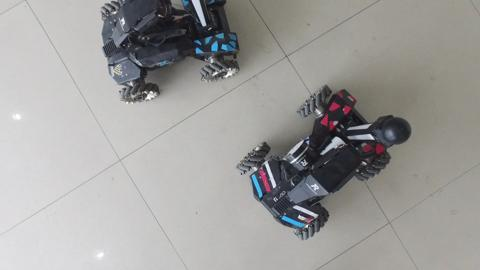chariot: (232, 72, 418, 250), (94, 1, 255, 108)
